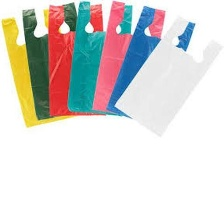plastic_bag: (110, 13, 224, 140), (103, 4, 203, 123), (88, 0, 170, 118), (0, 4, 78, 128), (18, 0, 90, 121), (64, 0, 134, 120), (44, 0, 112, 120)
